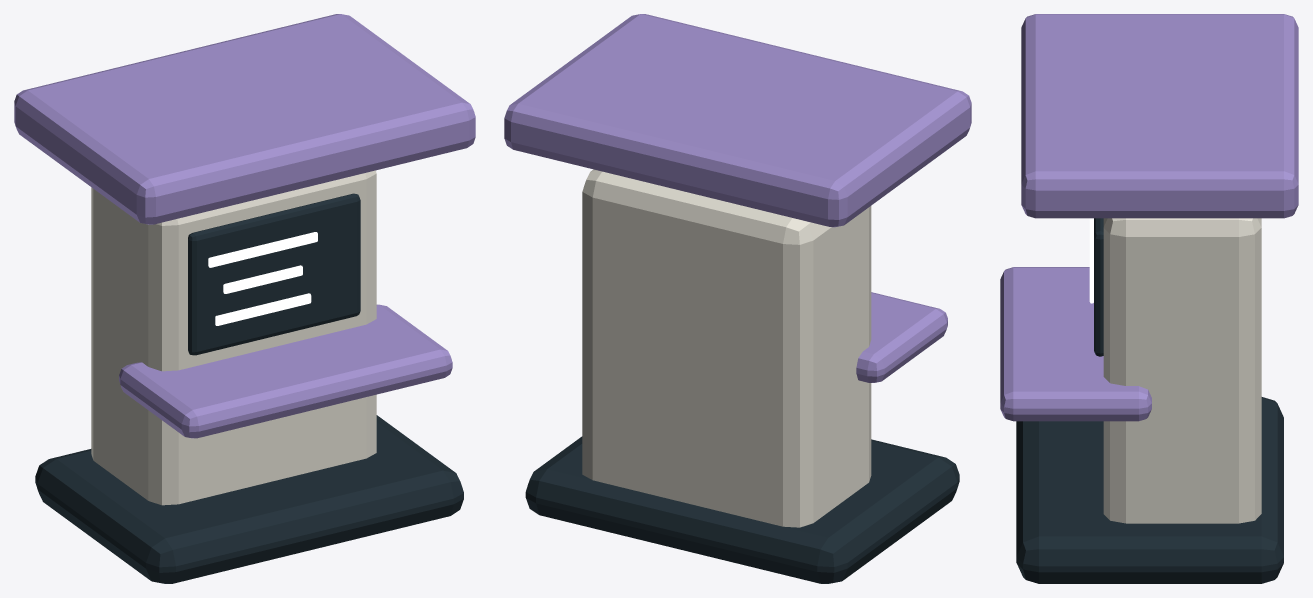
The model's file is prop_market_terminal.glb.
3 views of the same model, side by side, from view 1: azimuth 30°, elevation 25°; view 2: azimuth 150°, elevation 25°; view 3: azimuth 270°, elevation 25° (orthographic). The views are drawn at different scales.
Parts seen in each view (by area): view 1: terminal_canopy, terminal_body, terminal_foot, terminal_counter, terminal_screen, display_line, display_line.002, display_line.001; view 2: terminal_body, terminal_canopy, terminal_foot, terminal_counter; view 3: terminal_canopy, terminal_body, terminal_foot, terminal_counter, terminal_screen.
Boxes of the visible parts, x1,y1,x2,y2 form: terminal_canopy: [14, 14, 475, 224]; terminal_body: [91, 170, 376, 505]; terminal_foot: [35, 415, 463, 583]; terminal_counter: [119, 304, 452, 438]; terminal_screen: [188, 193, 360, 355]; display_line: [208, 232, 317, 267]; display_line.002: [215, 293, 311, 325]; display_line.001: [223, 265, 302, 293]; terminal_body: [582, 169, 871, 527]; terminal_canopy: [504, 14, 971, 227]; terminal_foot: [525, 436, 959, 583]; terminal_counter: [856, 292, 947, 382]; terminal_canopy: [1021, 14, 1298, 218]; terminal_body: [1103, 218, 1261, 523]; terminal_foot: [1016, 397, 1283, 583]; terminal_counter: [1000, 267, 1151, 421]; terminal_screen: [1094, 218, 1103, 356].
Bounding box in the file's own units: 1.24 × 1.44 × 0.925.
